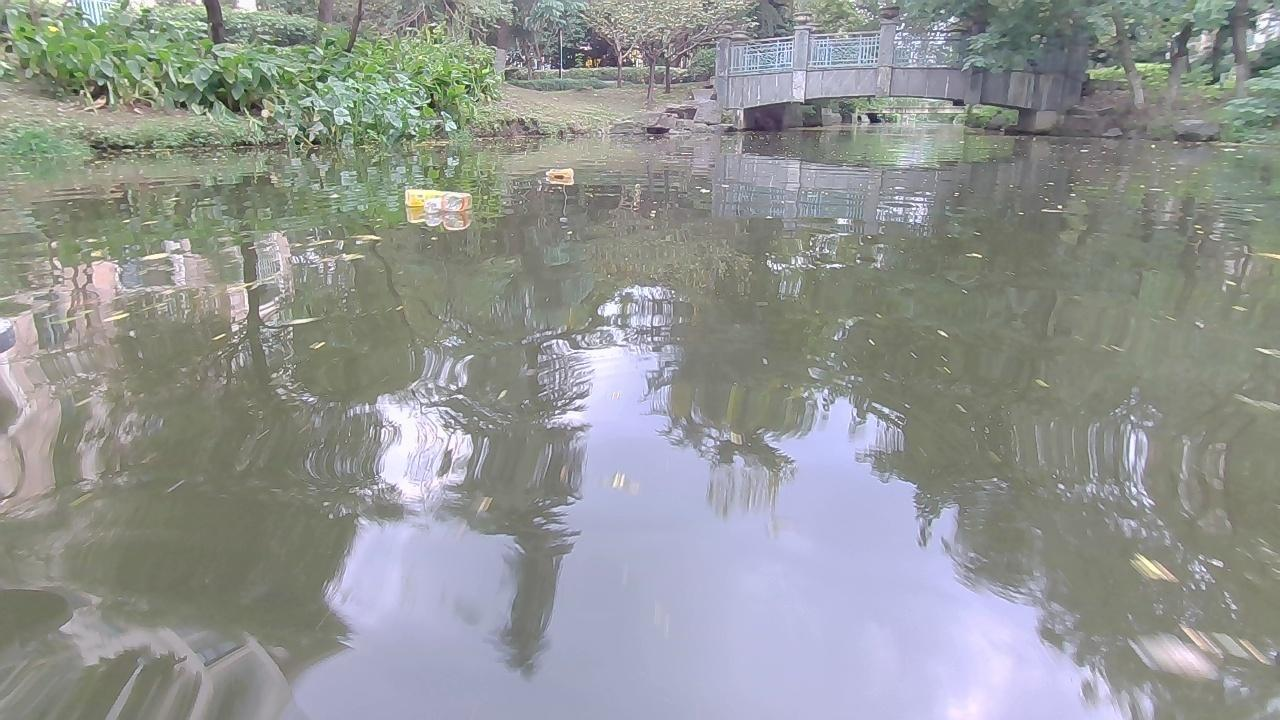bottle: (405, 184, 476, 208), (441, 191, 472, 210), (541, 166, 576, 180), (420, 200, 444, 214)
